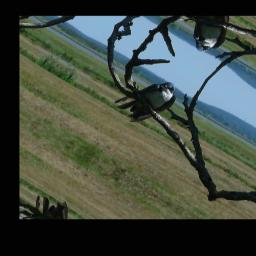Swallow: (106, 64, 187, 135)
